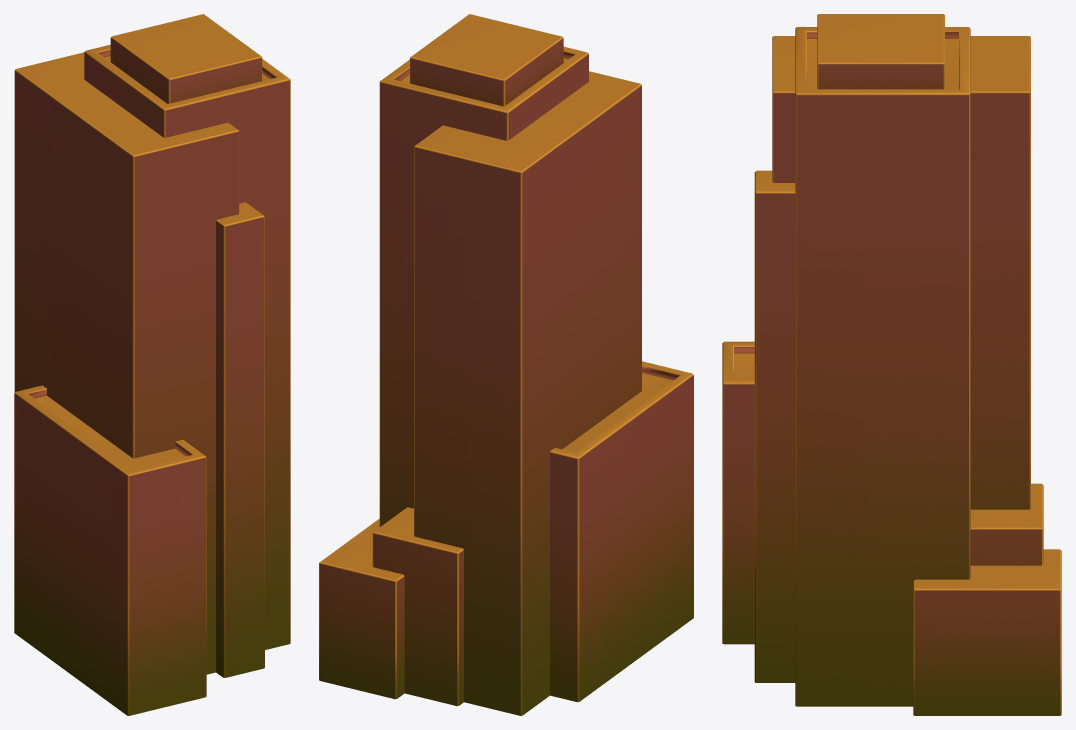
File: prop_BuildingLarge03.fbx
3 renders of one model, left to right at view 1: azimuth 30°, elevation 25°; view 2: azimuth 150°, elevation 25°; view 3: azimuth 270°, elevation 25°, orthographic. The views are drawn at different scales.
Visible parts, largest first — view 1: prop_BuildingLarge03; view 2: prop_BuildingLarge03; view 3: prop_BuildingLarge03.
Boxes of the visible parts, <box> form: prop_BuildingLarge03: <box>14,14,290,715</box>; prop_BuildingLarge03: <box>319,14,693,715</box>; prop_BuildingLarge03: <box>722,14,1061,715</box>.
Bounding box in the file's own units: 1657 × 4311 × 2090.
